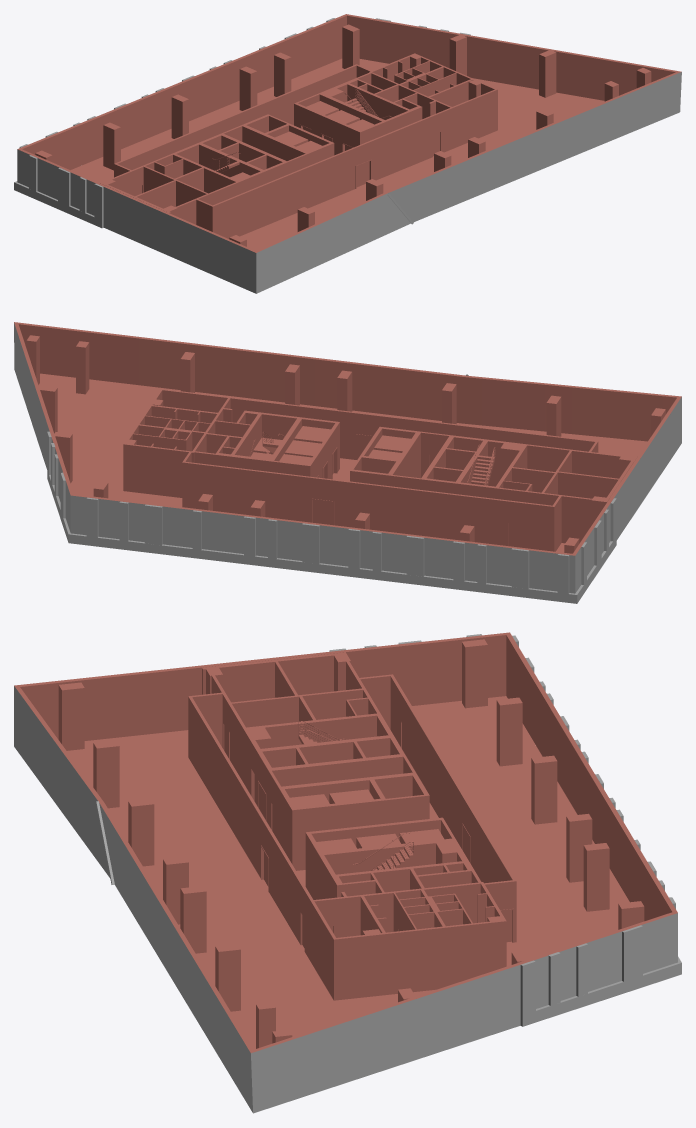
File: JLL_Ruya_Region3DModels_Riyadh_Derived_HeroBuildings_Building 305_Floors_KSA_04_04105_B29_Floor_T1_12.fbx
3 renders of one model, top to bottom at view 1: azimuth 30°, elevation 25°; view 2: azimuth 150°, elevation 25°; view 3: azimuth 270°, elevation 25°, orthographic. The views are drawn at different scales.
Parts seen in each view (by area): view 1: KSA_04_04105_B29_Floor_T1_12; view 2: KSA_04_04105_B29_Floor_T1_12; view 3: KSA_04_04105_B29_Floor_T1_12.
Part boxes in pixels (bbox=[...]): KSA_04_04105_B29_Floor_T1_12: bbox=[14, 14, 681, 293]; KSA_04_04105_B29_Floor_T1_12: bbox=[14, 322, 681, 603]; KSA_04_04105_B29_Floor_T1_12: bbox=[14, 632, 681, 1113].
Size of what is drawn, in the model's own units: 6061 by 509 by 4048.
